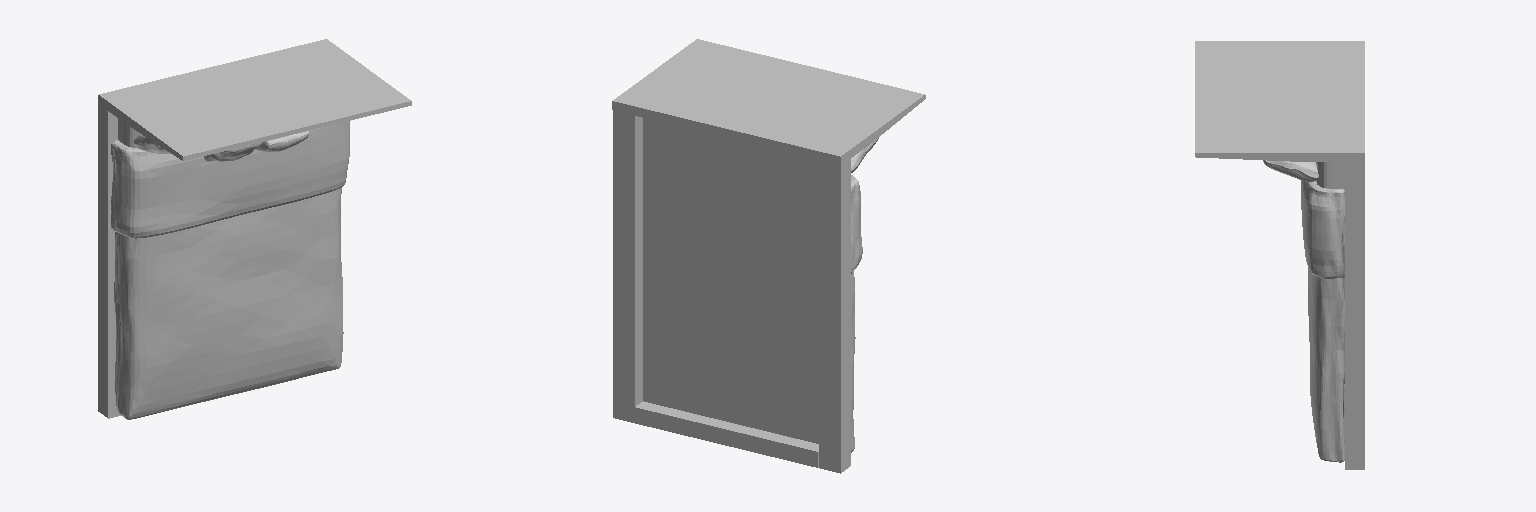
The model's file is QueenCama.obj.
The picture shows the model from 3 angles: view 1: azimuth 30°, elevation 25°; view 2: azimuth 150°, elevation 25°; view 3: azimuth 270°, elevation 25°; orthographic projection.
Parts seen in each view (by area): view 1: Box1284, Box1282, Box1277, Box1274; view 2: Box1283, Box1282, Box1277, Box1276, Box1281, Box1284; view 3: Box1282, Box1284, Box1276, Box1280, Box1278.
Boxes of the visible parts, x1,y1,x2,y2 form: Box1284: [111, 121, 349, 419]; Box1282: [98, 39, 411, 160]; Box1277: [98, 104, 121, 418]; Box1274: [256, 131, 308, 151]; Box1283: [643, 118, 818, 443]; Box1282: [612, 39, 925, 165]; Box1277: [819, 159, 850, 473]; Box1276: [613, 111, 642, 422]; Box1281: [635, 401, 846, 470]; Box1284: [851, 175, 862, 452]; Box1282: [1195, 41, 1364, 161]; Box1284: [1301, 180, 1344, 462]; Box1276: [1345, 162, 1364, 469]; Box1280: [1263, 160, 1318, 181]; Box1278: [1316, 162, 1344, 439].
Bounding box in the file's own units: 167 × 220 × 107.